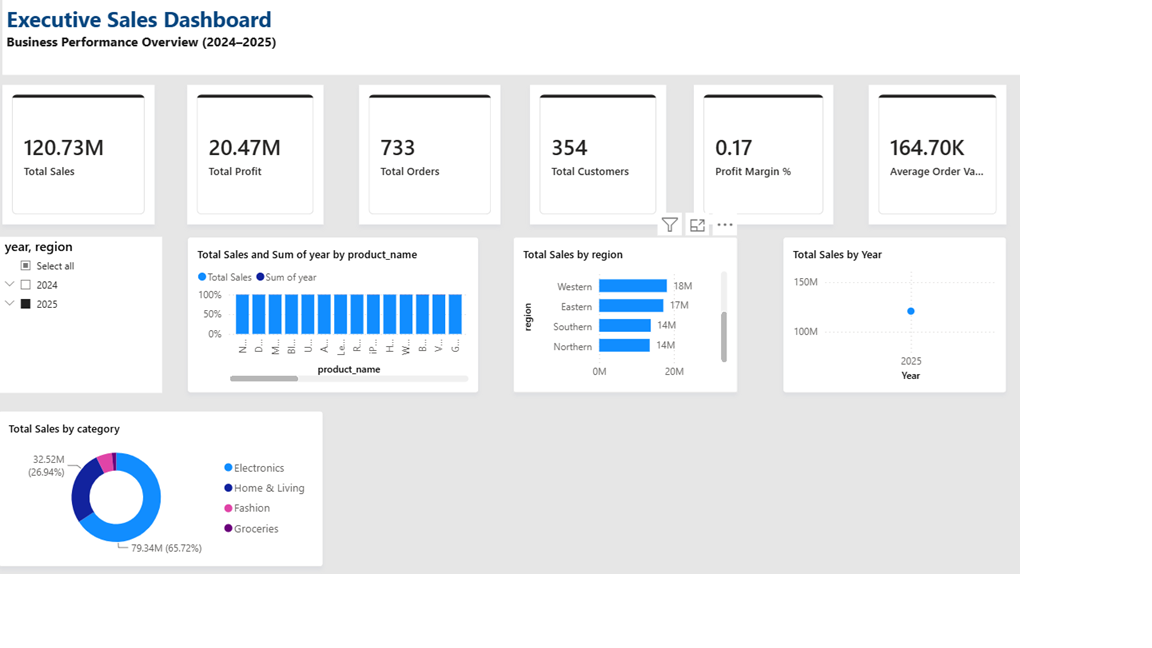

What the dashboard file says about the page in this screenshot:
{"tool":"powerbi","page":{"name":"Page 1","canvas":[1280,720],"ordinal":0},"visuals":[{"type":"cardVisual","fields":{"Data":["Sales.Total Sales"]},"box":[5.5,105.7,190.7,174.3],"z":0},{"type":"cardVisual","fields":{"Data":["Sales.Total Profit"]},"box":[236,105.7,170.2,174.3],"z":1000},{"type":"cardVisual","fields":{"Data":["Sales.Total Orders"]},"box":[451.5,105.7,177,174.3],"z":2000},{"type":"cardVisual","fields":{"Data":["Sales.Total Customers"]},"box":[665.5,105.7,170.2,174.3],"z":3000},{"type":"cardVisual","fields":{"Data":["Sales.Profit Margin %"]},"box":[870,105.7,174.3,174.3],"z":4000},{"type":"cardVisual","fields":{"Data":["Sales.Average Order Value"]},"box":[1088.2,105.7,172.9,174.3],"z":5000},{"type":"lineChart","fields":{"Category":["Sales.order_date.Variation.Date Hierarchy.Year","Sales.order_date.Variation.Date Hierarchy.Quarter","Sales.order_date.Variation.Date Hierarchy.Month","Sales.order_date.Variation.Date Hierarchy.Day"],"Y":["Sales.Total Sales"]},"box":[981.1,296.4,279.9,194.9],"z":6000},{"type":"clusteredBarChart","fields":{"Category":["Sales.region"],"Y":["Sales.Total Sales"]},"box":[643.6,296.4,281.3,194.9],"z":7000},{"type":"donutChart","fields":{"Category":["Sales.category"],"Y":["Sales.Total Sales"]},"box":[0,513.2,406.2,194.9],"z":8000},{"type":"hundredPercentStackedColumnChart","fields":{"Category":["Sales.product_name"],"Y":["Sales.Total Sales","Sum(Sales.year)"]},"box":[236,296.4,365,194.9],"z":9000},{"type":"slicer","fields":{"Values":["Sales.year","Sales.region"]},"box":[0,296.4,204.5,194.9],"z":10000},{"type":"textbox","box":[5.5,0,1274.8,93.3],"z":11000}]}

Visuals, with their boxes in screenshot pixels (x1, y1, x2, y2), scaled from the page's 1280x720 canvas onto the 1152x648 screenshot:
cardVisual - Sales.Total Sales: (left=5, top=95, right=177, bottom=252)
cardVisual - Sales.Total Profit: (left=212, top=95, right=366, bottom=252)
cardVisual - Sales.Total Orders: (left=406, top=95, right=566, bottom=252)
cardVisual - Sales.Total Customers: (left=599, top=95, right=752, bottom=252)
cardVisual - Sales.Profit Margin %: (left=783, top=95, right=940, bottom=252)
cardVisual - Sales.Average Order Value: (left=979, top=95, right=1135, bottom=252)
lineChart - Sales.order_date.Variation.Date Hierarchy.Year x Sales.order_date.Variation.Date Hierarchy.Quarter: (left=883, top=267, right=1135, bottom=442)
clusteredBarChart - Sales.region x Sales.Total Sales: (left=579, top=267, right=832, bottom=442)
donutChart - Sales.category x Sales.Total Sales: (left=0, top=462, right=366, bottom=637)
hundredPercentStackedColumnChart - Sales.product_name x Sales.Total Sales: (left=212, top=267, right=541, bottom=442)
slicer - Sales.year x Sales.region: (left=0, top=267, right=184, bottom=442)
textbox: (left=5, top=0, right=1151, bottom=84)
